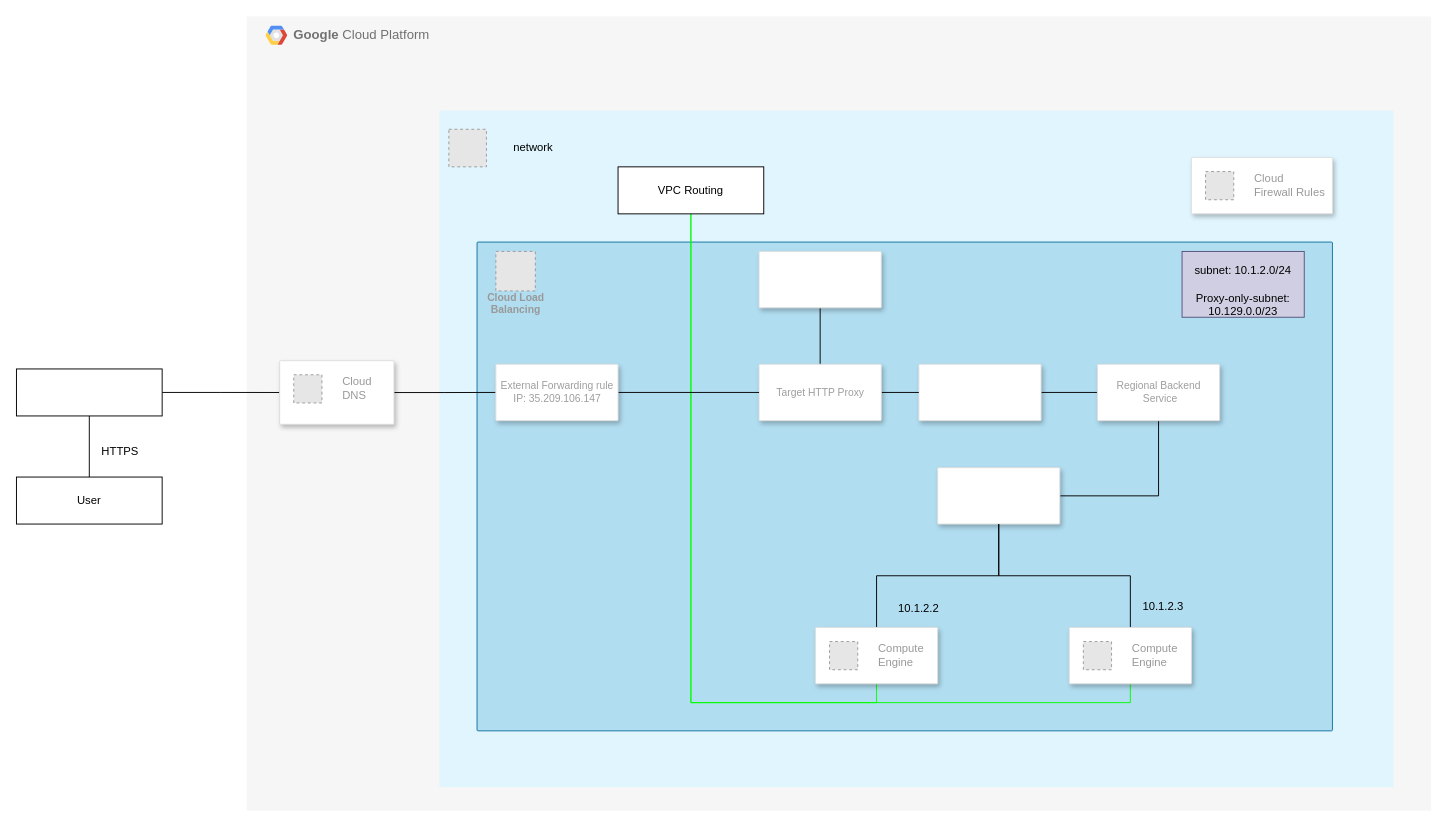
The diagram is 1448 pixels wide and 826 high, and some of its shapes have lost their labels. Grey dashed boxes stand in for pictures. Here are the shapes that lost their labels. From the top down, the centre of each, then its label:
the point at 820,280: Regional SSL Certificate
the point at 89,392: https://rongu.site
the point at 980,393: Regional URL Maps
the point at 999,497: Instance Group
